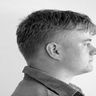ear: (42, 37, 65, 64)
